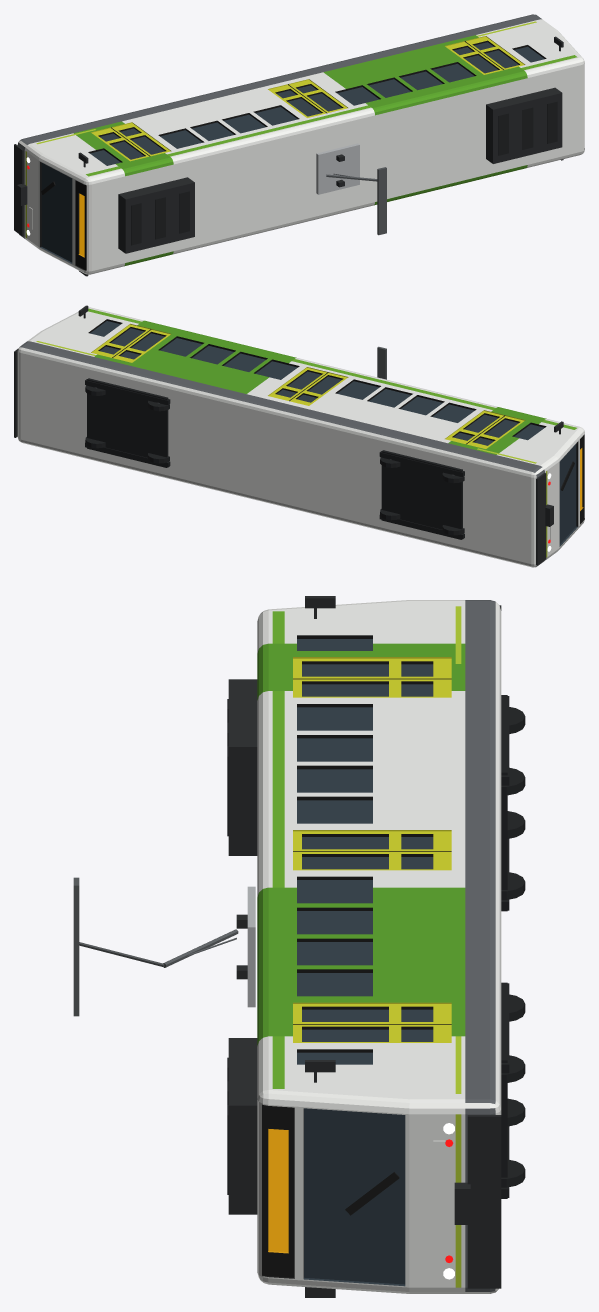
The picture shows the model from 3 angles, top to bottom: view 1: azimuth 30°, elevation 25°; view 2: azimuth 150°, elevation 25°; view 3: azimuth 270°, elevation 25°; orthographic projection. The views are drawn at different scales.
Visible parts, largest first — view 1: A_body_s0, A_roof_ac_025, A_roof_ac_029, A_pan_base_033, A_bumper_005, A_pan_head_039, A_roof_grille_027, A_roof_grille_026, A_roof_grille_028, A_roof_grille_030, A_roof_grille_031, A_roof_grille_032; view 2: A_body_s0, A_bogie_frame_040, A_bogie_frame_055, A_bumper_005, A_bogie_side_048, A_bogie_side_063, A_bogie_side_056, A_bogie_side_041, A_bumper_017; view 3: A_body_s0, A_bumper_017, A_roof_ac_025, A_roof_ac_029, A_bogie_frame_040, A_bogie_frame_055, A_pan_base_033, A_pan_head_039.
Boxes of the visible parts, bbox=[...] form: A_body_s0: bbox=[17, 14, 584, 274]; A_roof_ac_025: bbox=[486, 87, 562, 163]; A_roof_ac_029: bbox=[118, 177, 194, 253]; A_pan_base_033: bbox=[316, 143, 359, 194]; A_bumper_005: bbox=[14, 144, 23, 236]; A_pan_head_039: bbox=[377, 167, 386, 235]; A_roof_grille_027: bbox=[522, 107, 533, 149]; A_roof_grille_026: bbox=[498, 113, 508, 155]; A_roof_grille_028: bbox=[547, 101, 557, 143]; A_roof_grille_030: bbox=[131, 203, 141, 245]; A_roof_grille_031: bbox=[155, 197, 165, 239]; A_roof_grille_032: bbox=[179, 191, 189, 233]; A_body_s0: bbox=[17, 307, 584, 567]; A_bogie_frame_040: bbox=[381, 450, 462, 539]; A_bogie_frame_055: bbox=[87, 378, 168, 467]; A_bumper_005: bbox=[536, 473, 546, 565]; A_bogie_side_048: bbox=[379, 451, 464, 476]; A_bogie_side_063: bbox=[85, 379, 170, 404]; A_bogie_side_056: bbox=[85, 443, 170, 467]; A_bogie_side_041: bbox=[379, 515, 464, 539]; A_bumper_017: bbox=[14, 349, 18, 437]; A_body_s0: bbox=[257, 600, 501, 1293]; A_bumper_017: bbox=[467, 1115, 501, 1288]; A_roof_ac_025: bbox=[228, 1038, 257, 1214]; A_roof_ac_029: bbox=[228, 679, 257, 855]; A_bogie_frame_040: bbox=[501, 695, 507, 911]; A_bogie_frame_055: bbox=[501, 982, 507, 1198]; A_pan_base_033: bbox=[247, 886, 255, 1007]; A_pan_head_039: bbox=[73, 877, 79, 1016].
Bounding box in the file's own units: 15.37 × 3.25 × 5.64.
